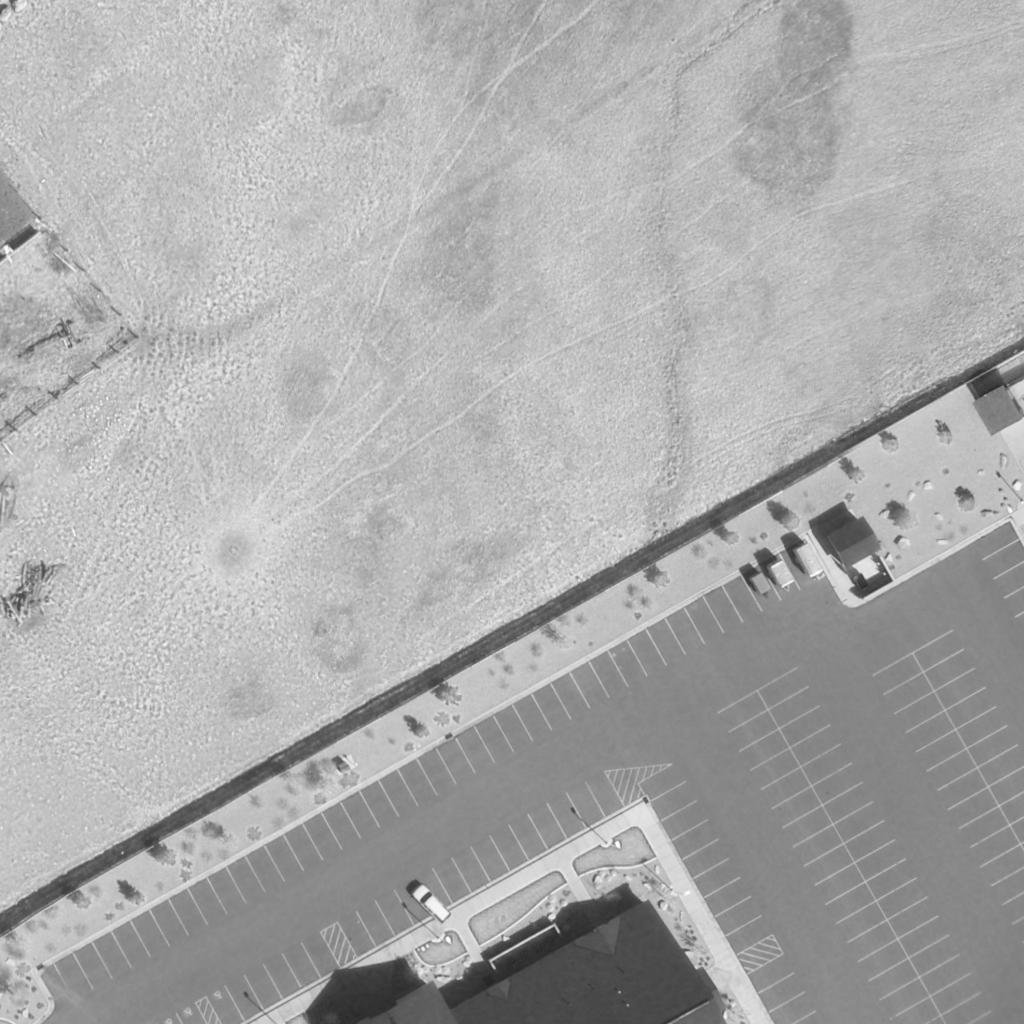vehicle: (408, 883, 454, 925)
